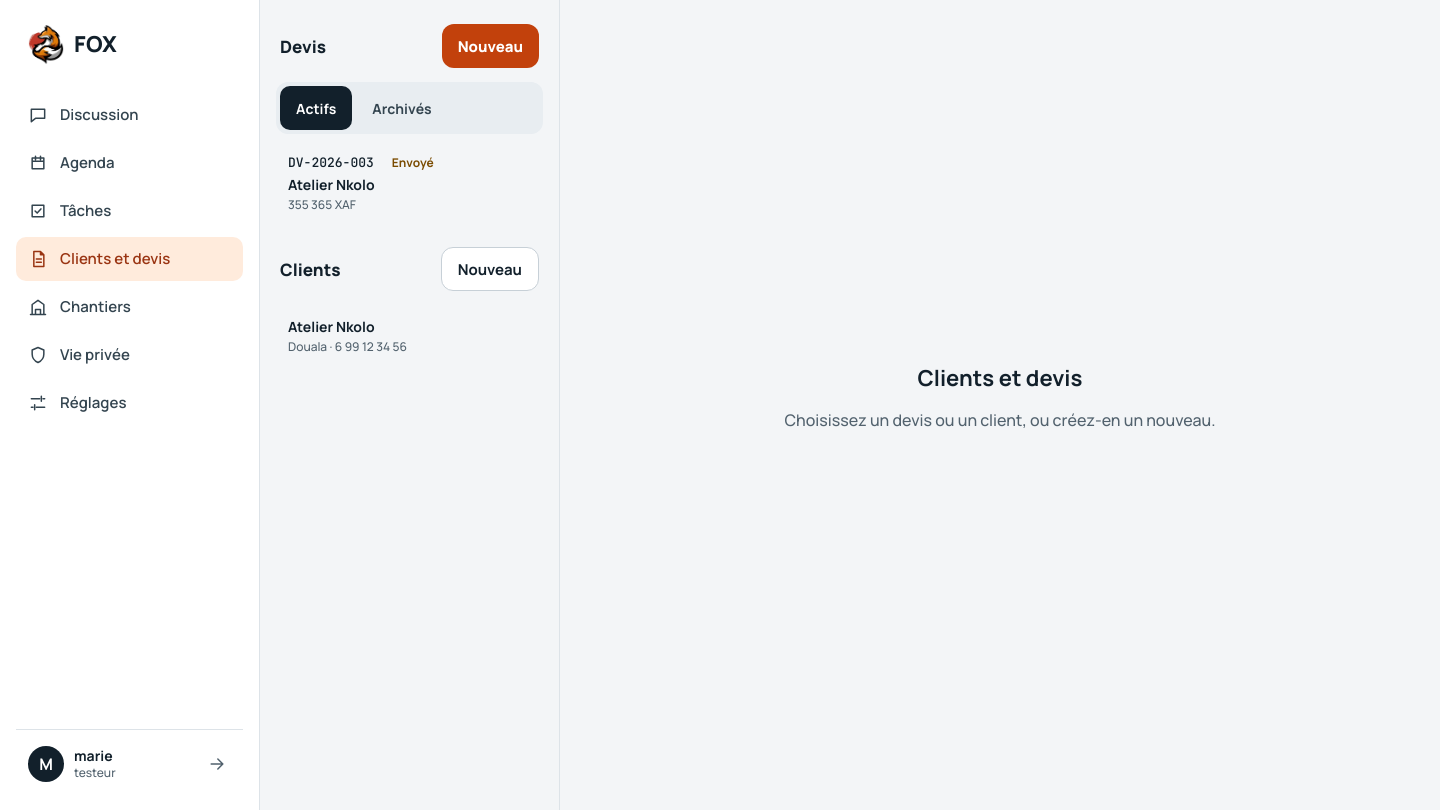
Clients et devis › change le statut d'un devis
Step 1. Click the button "DV-2026-003 Envoyé Atelier Nkolo 355 365 XAF" → (331, 162), box [276,140,543,225]
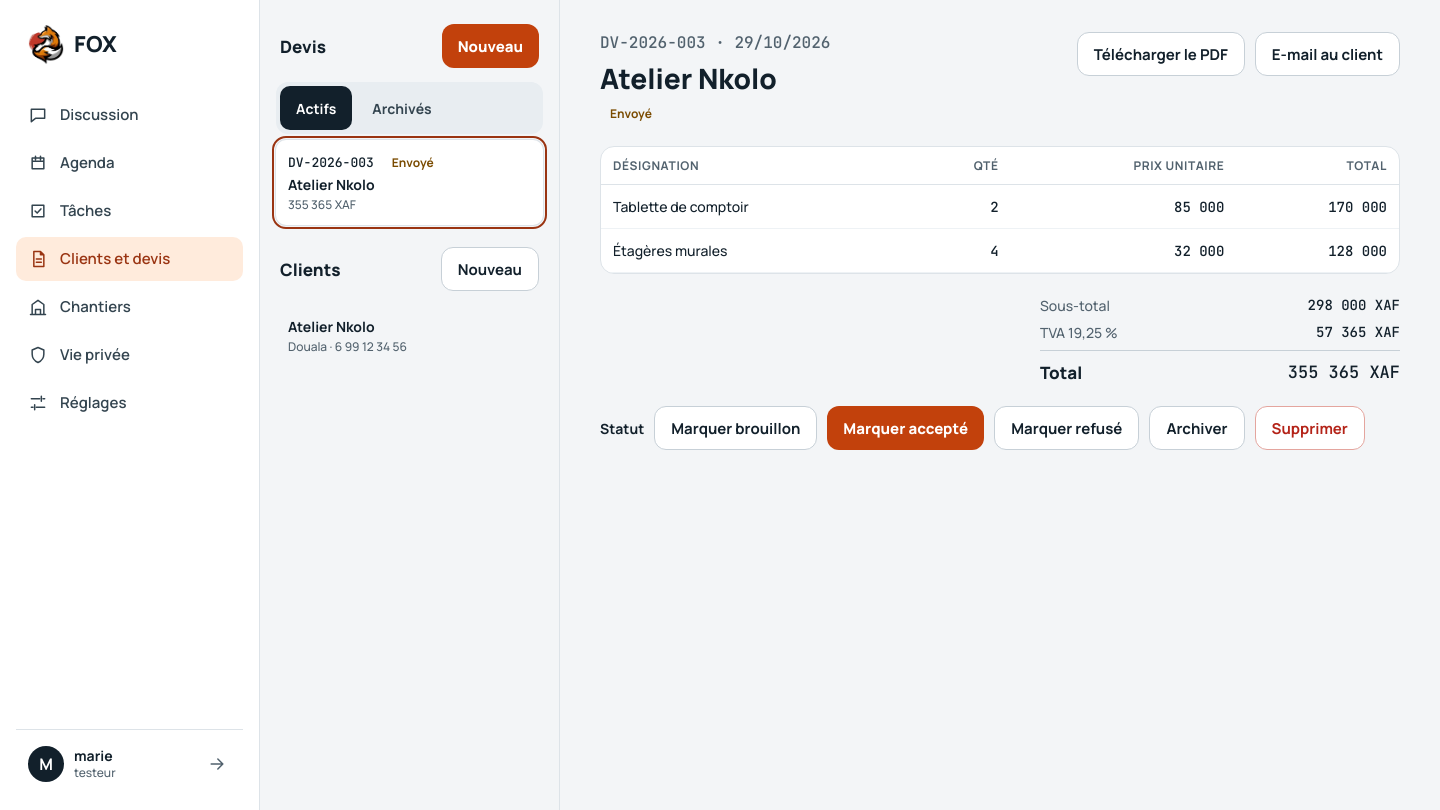
Step 2. Click the button "Marquer accepté" → (906, 428), box [827,406,984,450]
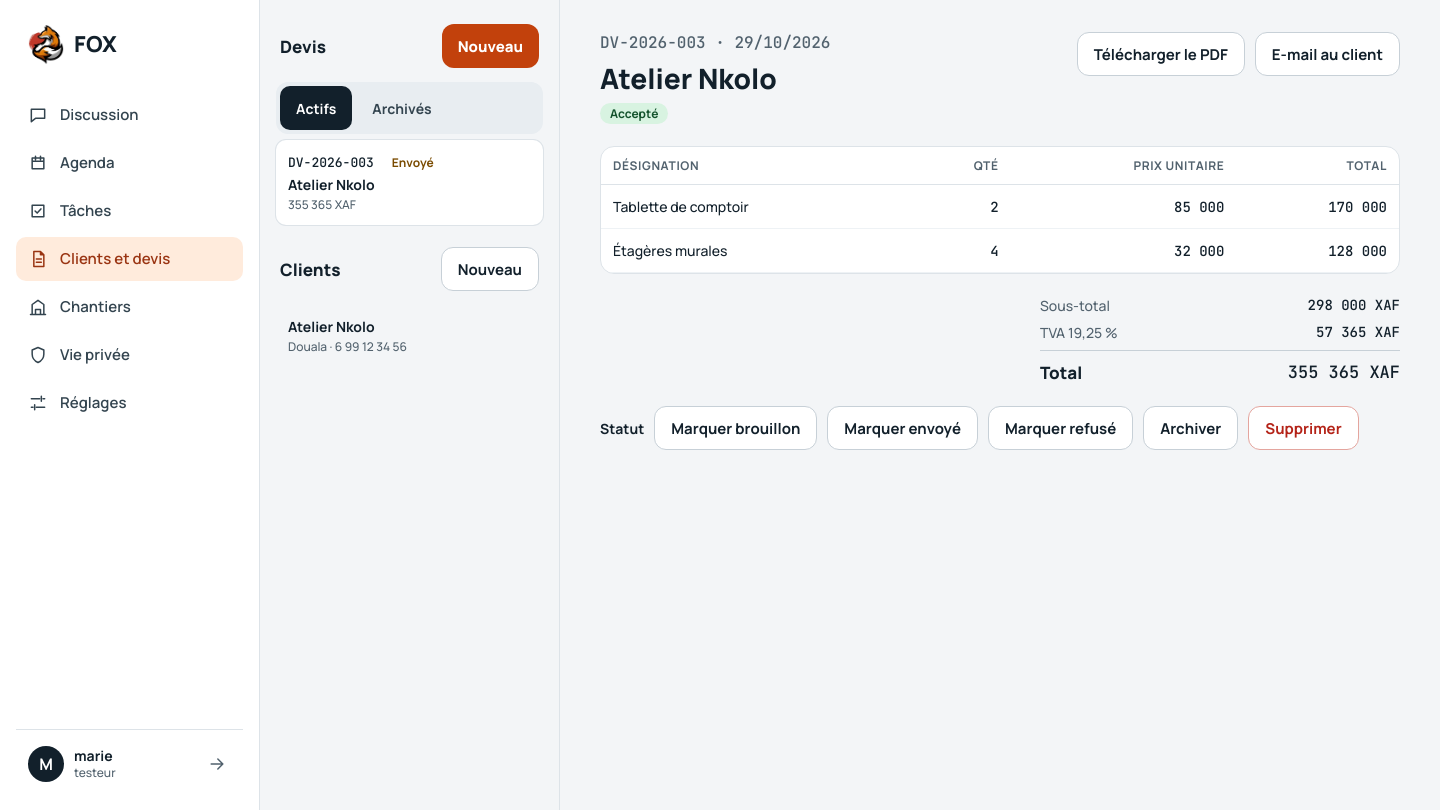
Expected: the button "Marquer accepté" is gone
